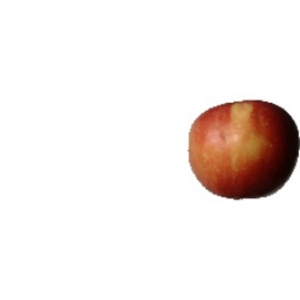maçã braeburn: (185, 97, 299, 202)
